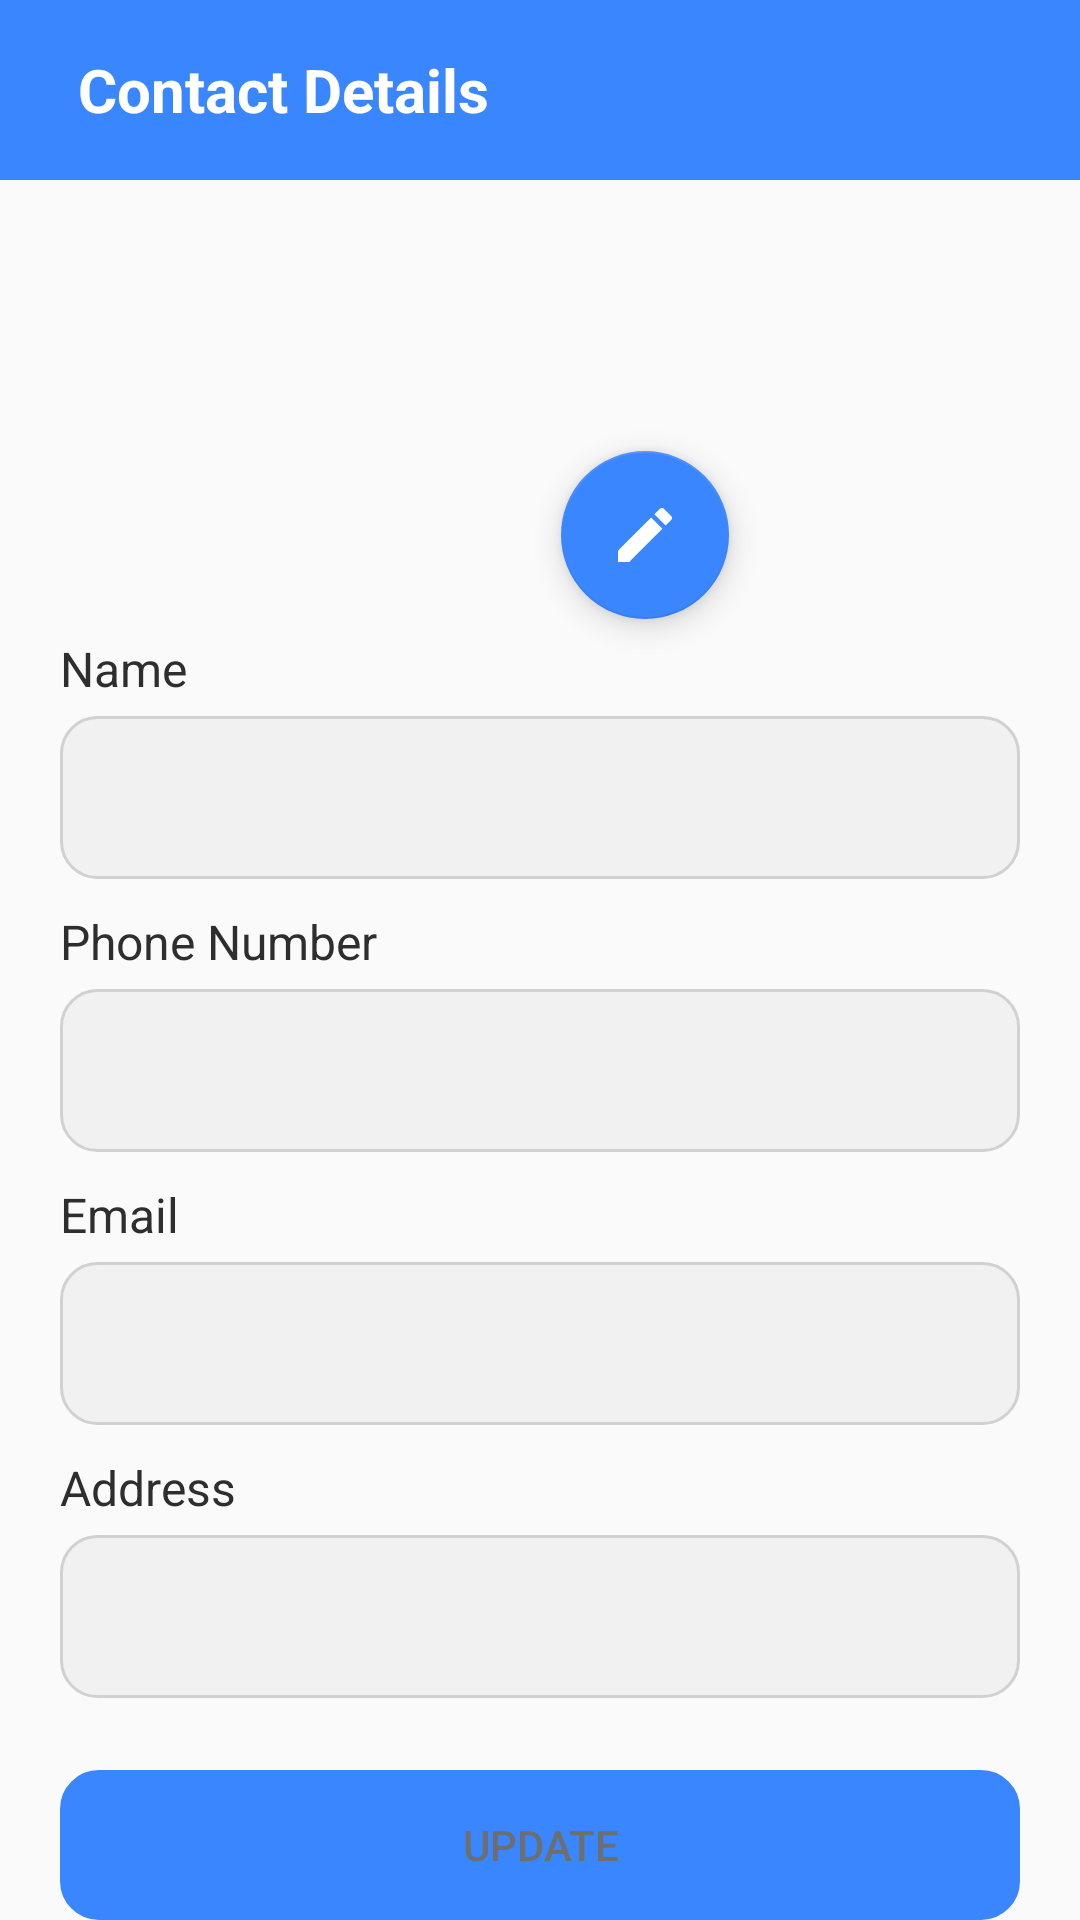

Icons on this 1080 x 1920 Android screen, each with its box as BBox(x1, y1, x2, y2):
Edit profile image: BBox(561, 451, 729, 619)
